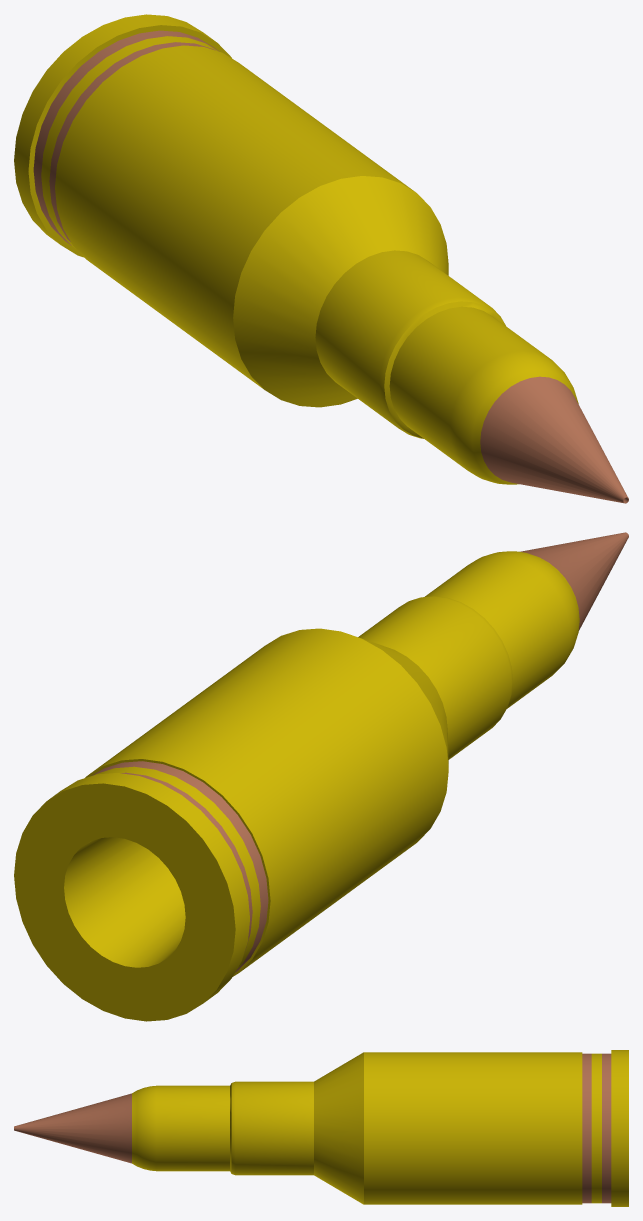
File: Bullet.fbx
3 renders of one model, top to bottom at view 1: azimuth 30°, elevation 25°; view 2: azimuth 150°, elevation 25°; view 3: azimuth 270°, elevation 25°, orthographic. The views are drawn at different scales.
Parts seen in each view (by area): view 1: Cylinder.001; view 2: Cylinder.001; view 3: Cylinder.001.
Part boxes in pixels (x1=…): Cylinder.001: x1=14, y1=14, x2=628, y2=503; Cylinder.001: x1=14, y1=532, x2=628, y2=1021; Cylinder.001: x1=14, y1=1050, x2=628, y2=1206.
Bounding box in the file's own units: 0.1033 × 0.4046 × 0.1033.
